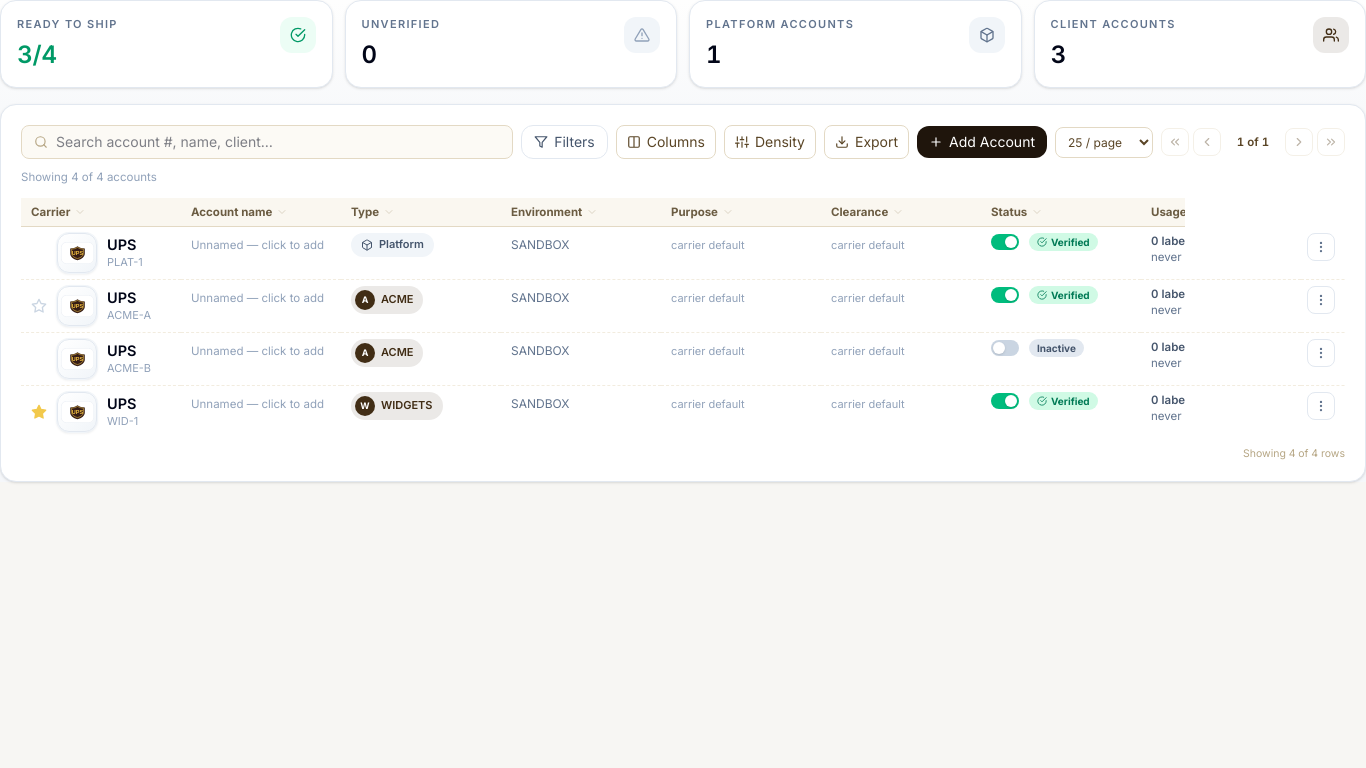
Test: CarrierConnections · client-attach · positive › Client-default filter (YES) narrows to only rows with clientDefault=true
The image size is (1366, 768).
Expected: the text "Showing 4 of 4 accounts" is shown, [21,170,157,184]
Click the button "Filters": (564, 142) [521,125,608,159]
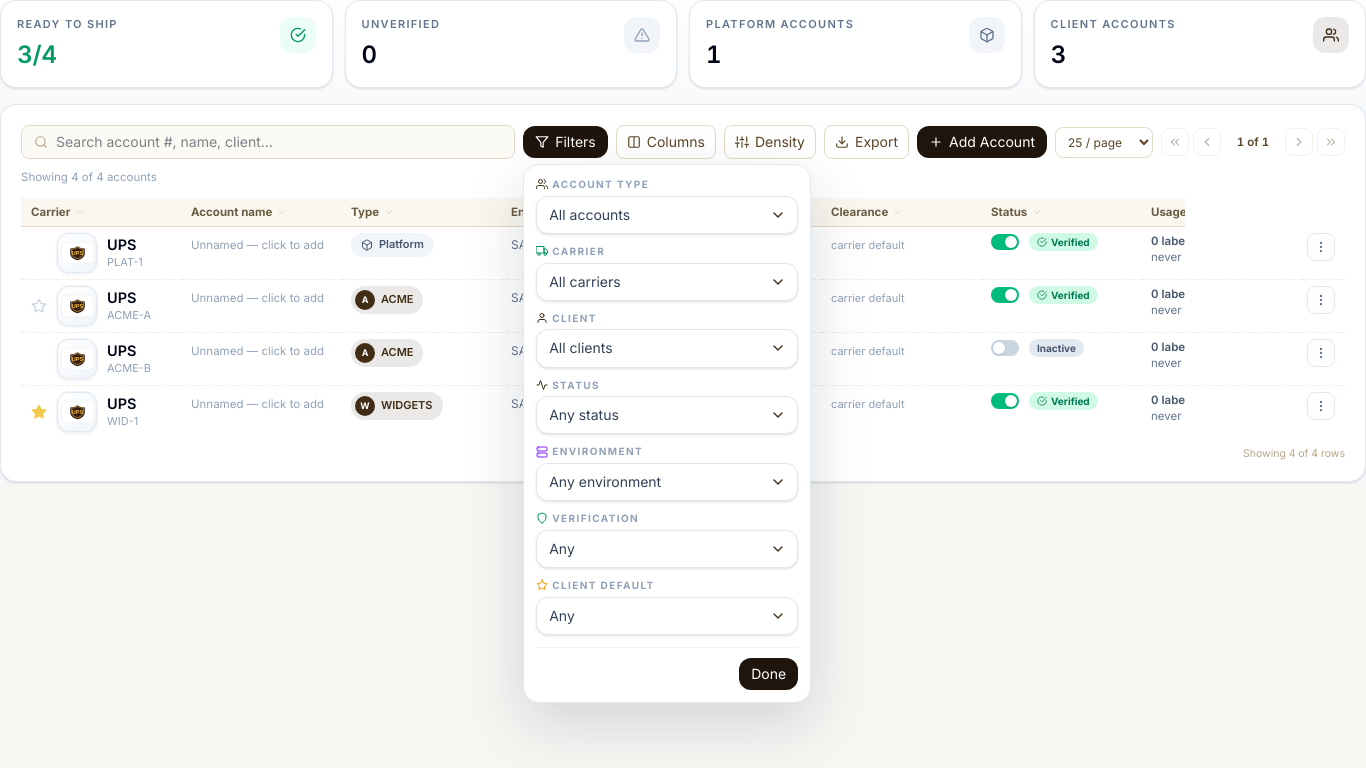
Select "Default" in the dropdown named "Filter by client default": (667, 616) [536,596,798,635]
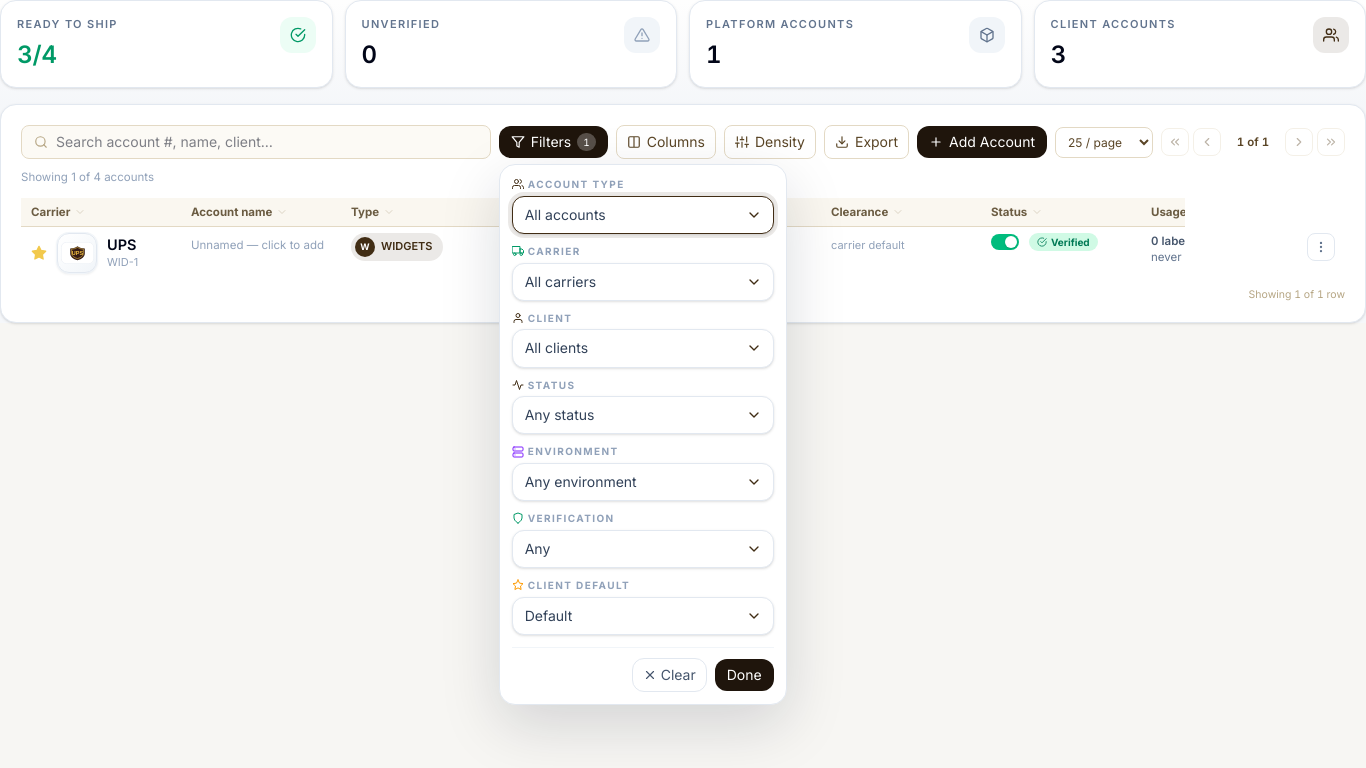
Expected: the text "Showing 1 of 4 accounts" is shown, [21,170,154,184]
